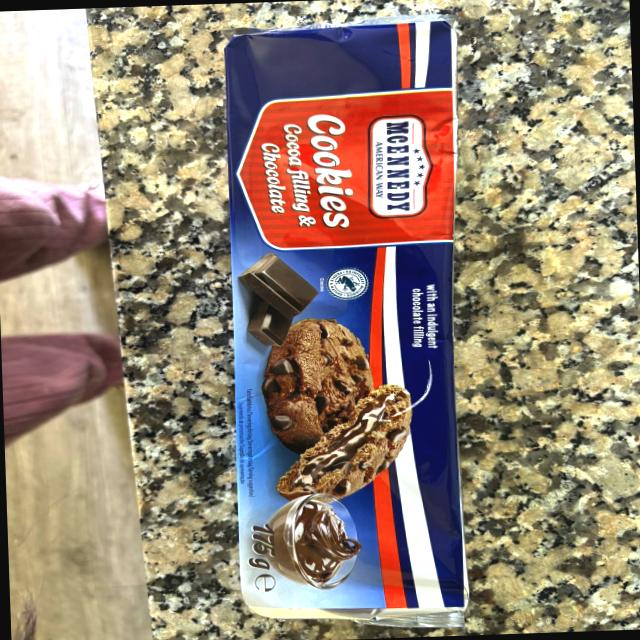good_package: (218, 21, 472, 634)
